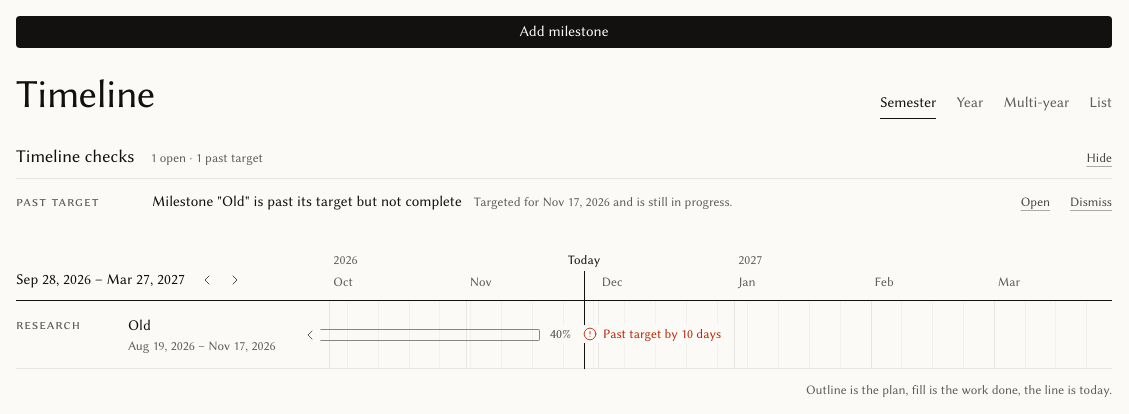
Test: TimelinePage › shows a timeline check for a passed, incomplete milestone and dismisses it
Expected: the text "Milestone \"Old\" is past its target but not complete" is shown, [152,193,462,210]
What coordinates should you click on to do the following:
click the button "Dismiss"
I would click on:
 (1091, 202)
Its box is [1070,189,1112,215].
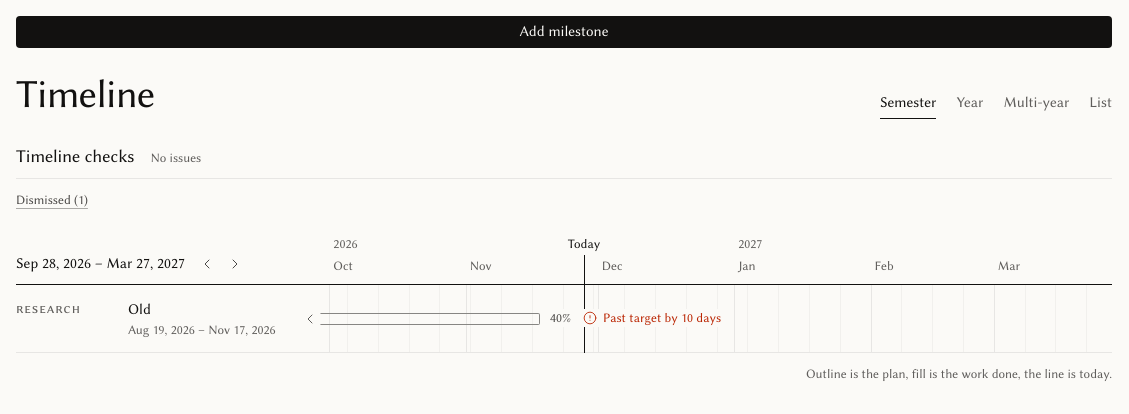
Expected: the text "Rule: Milestone passed but incomplete" is not shown
Now the heading "Dismissed (1)" is shown, box [16,192,88,207]
